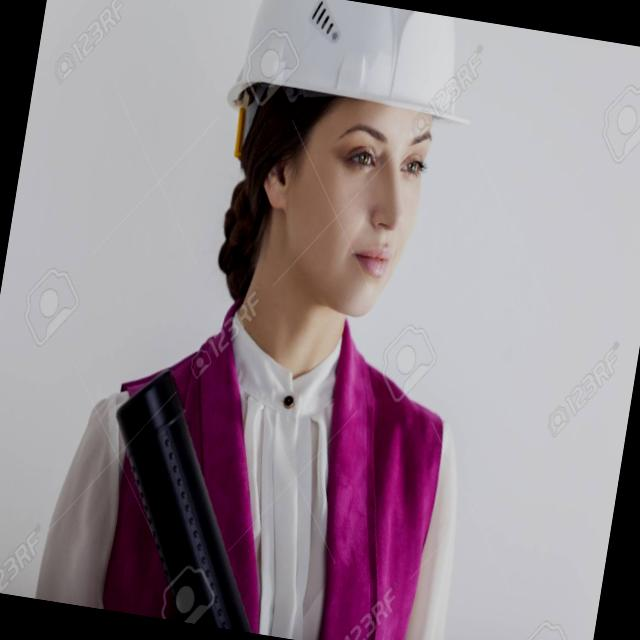helmet: (214, 0, 487, 191)
no-goggles: (276, 92, 464, 222)
no-vest: (95, 271, 465, 640)
